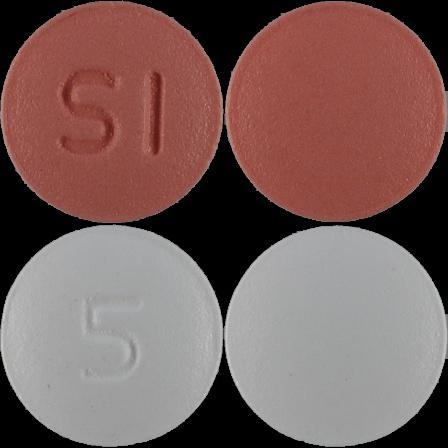16729-156: (0, 0, 224, 224)
